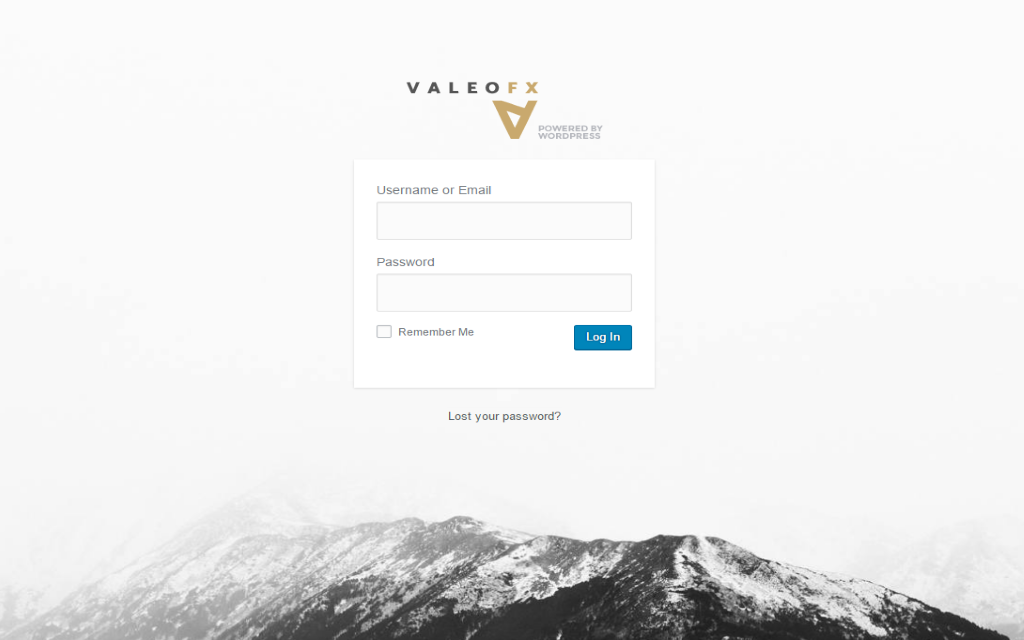button: (574, 324, 632, 350)
button_login: (573, 323, 634, 352)
checkbox: (378, 325, 391, 339)
label_Login: (584, 326, 624, 344)
label_Username: (378, 181, 441, 199)
label_email: (457, 180, 494, 202)
label_password: (375, 255, 436, 268)
textbox: (378, 274, 631, 313), (379, 204, 632, 240)
